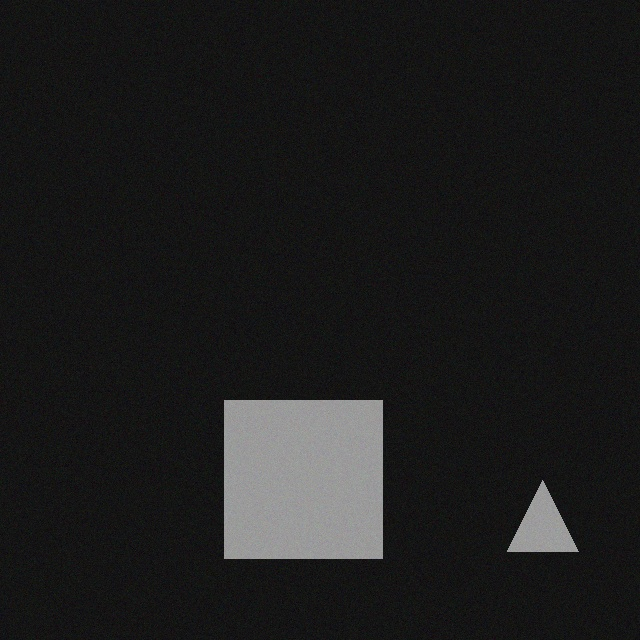square: (220, 408, 378, 566)
triangle: (503, 488, 574, 559)
